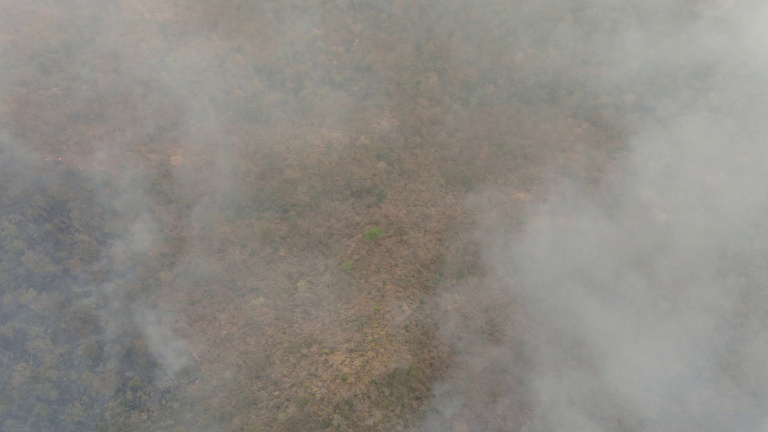smoke: (442, 1, 767, 429), (1, 1, 285, 424)
